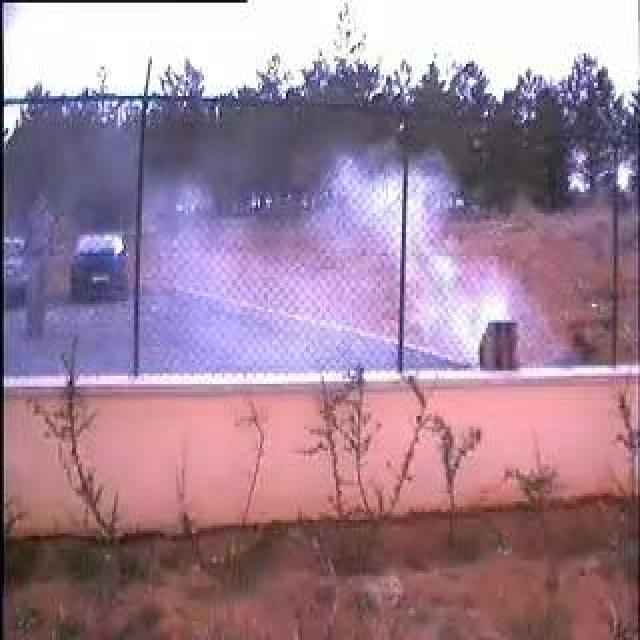Smoke: (272, 153, 508, 367)
